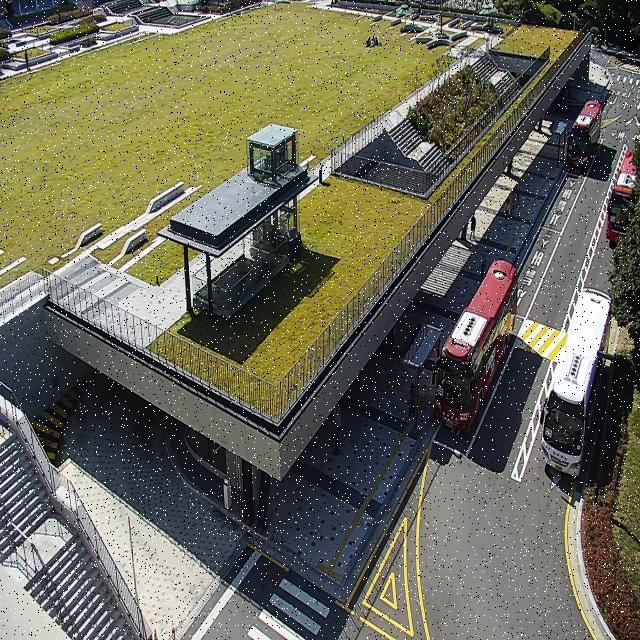queue: (416, 329, 439, 432)
